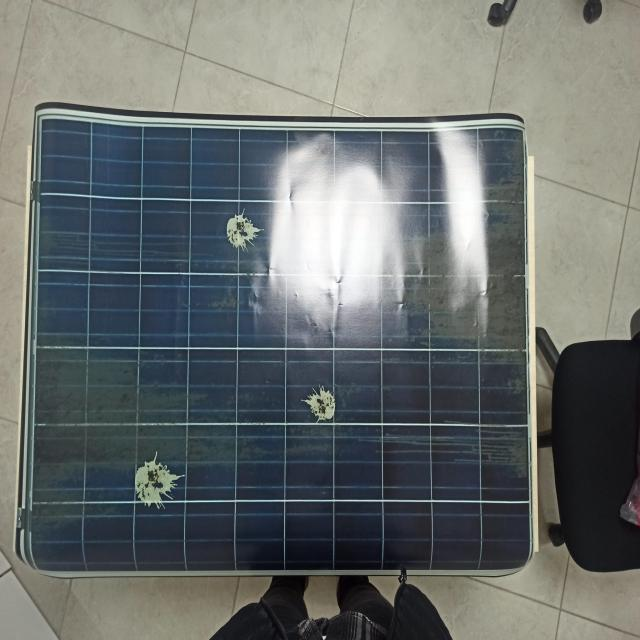faulty: (29, 107, 539, 580)
